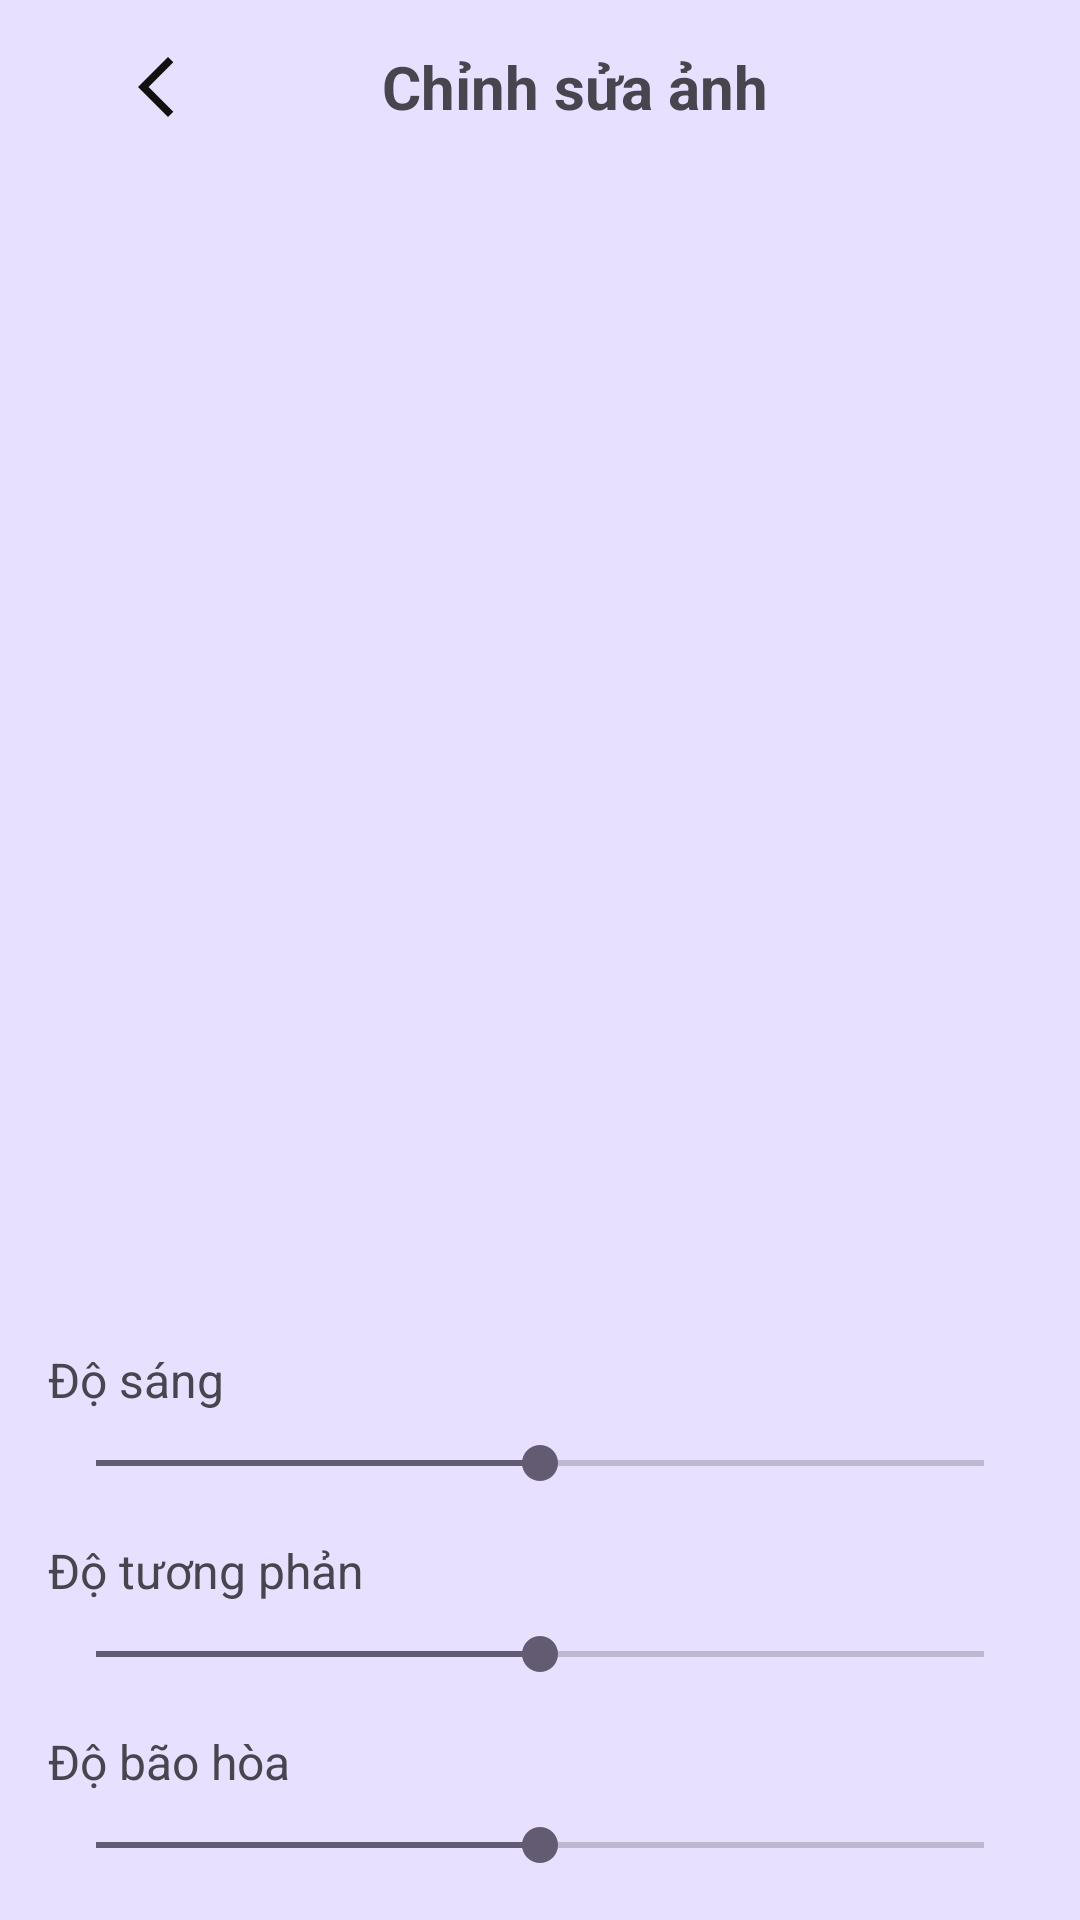

Icon bounding boxes for this 1080 x 1920 phone screenshot, format (x1=x1, y1=y1, x2=x2, y2=y2):
arrow back: (x1=138, y1=57, x2=173, y2=117)
